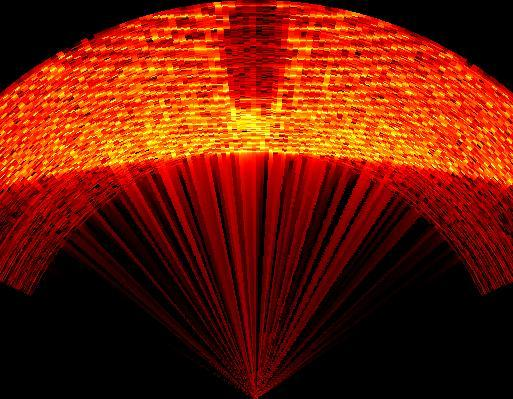box_crate: (216, 2, 294, 106)
